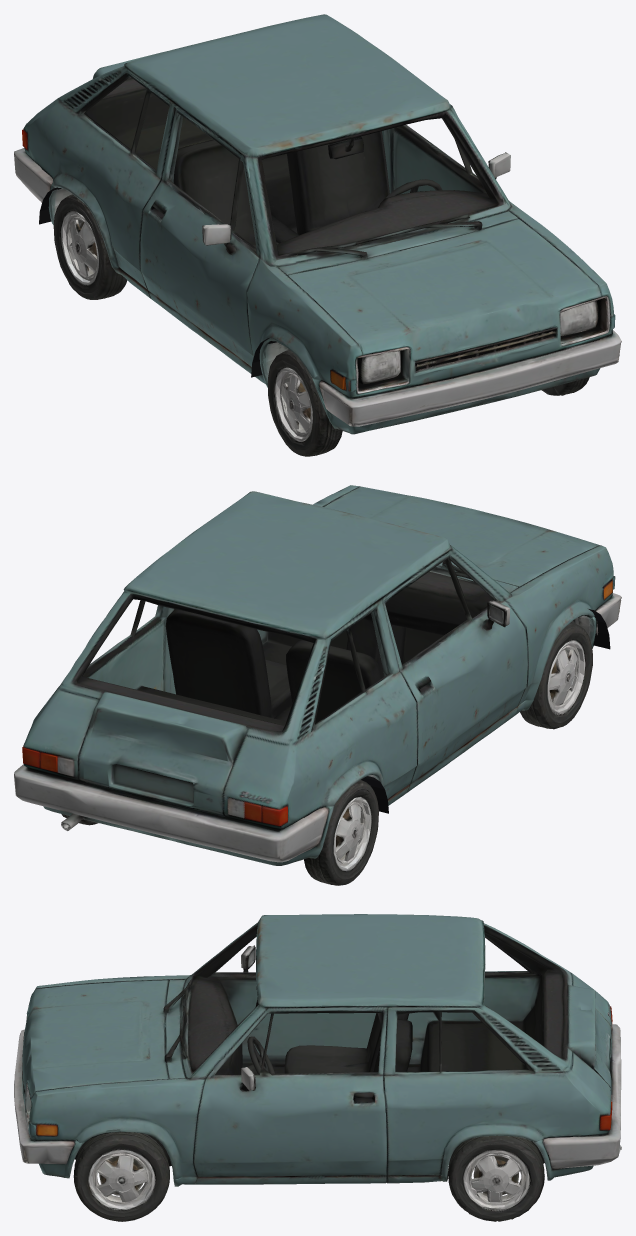
Rendered from car_hatch.glb.
3 renders of one model, top to bottom at view 1: azimuth 30°, elevation 25°; view 2: azimuth 150°, elevation 25°; view 3: azimuth 270°, elevation 25°, orthographic. The views are drawn at different scales.
Parts seen in each view (by area): view 1: body, wheel_FR, wheel_RR; view 2: body, wheel_FR, wheel_RR; view 3: body, wheel_FL, wheel_RL.
Boxes of the visible parts, left/top/right/bottom form: body: left=14, top=14, right=621, bottom=434; wheel_FR: left=261, top=349, right=342, bottom=456; wheel_RR: left=50, top=194, right=104, bottom=299; body: left=14, top=485, right=621, bottom=865; wheel_FR: left=520, top=614, right=595, bottom=729; wheel_RR: left=304, top=780, right=378, bottom=885; body: left=14, top=914, right=621, bottom=1219; wheel_FL: left=68, top=1129, right=174, bottom=1221; wheel_RL: left=451, top=1135, right=547, bottom=1221.
Bounding box in the file's own units: 1.93 × 1.44 × 3.8.
Materials: 2 (1 with a texture image).
